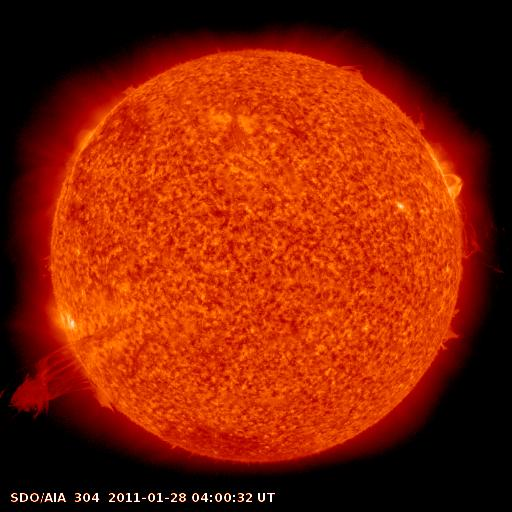prominence: (5, 336, 133, 435), (454, 198, 509, 265), (423, 295, 473, 366), (337, 52, 381, 97), (105, 69, 156, 105), (410, 96, 445, 138)
